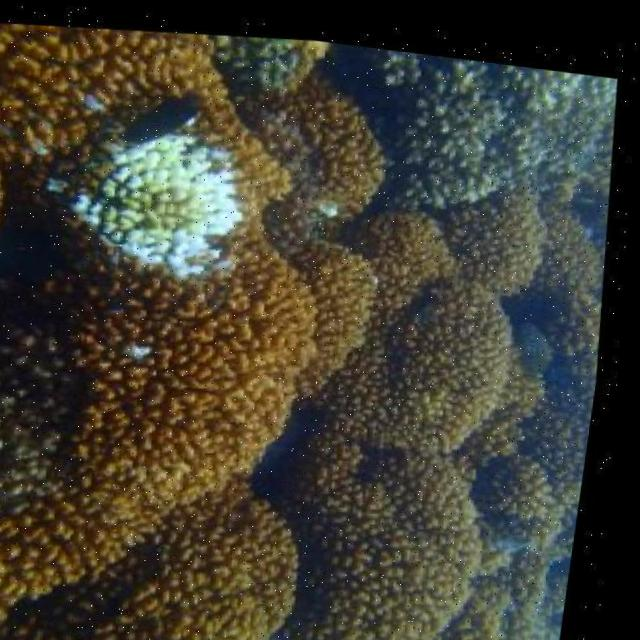Bleached Coral: (72, 125, 244, 274)
Dead Coral: (374, 36, 618, 196)
Healthy Coral: (0, 296, 560, 640), (296, 212, 533, 358)
